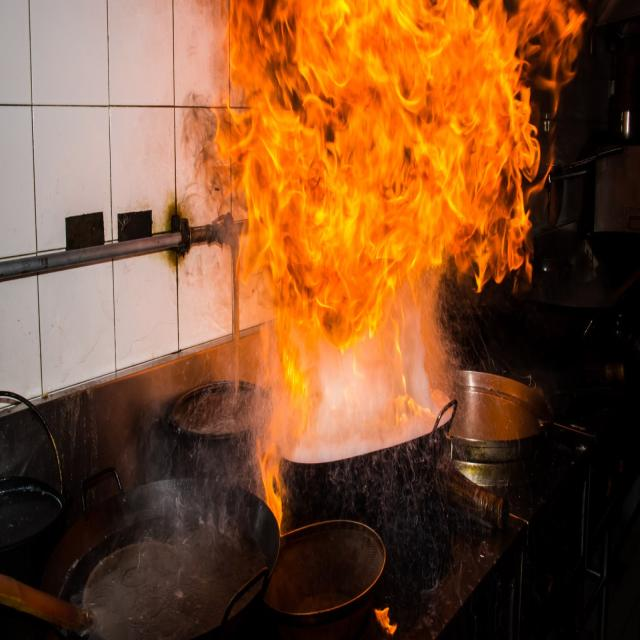fire: (223, 4, 533, 278)
